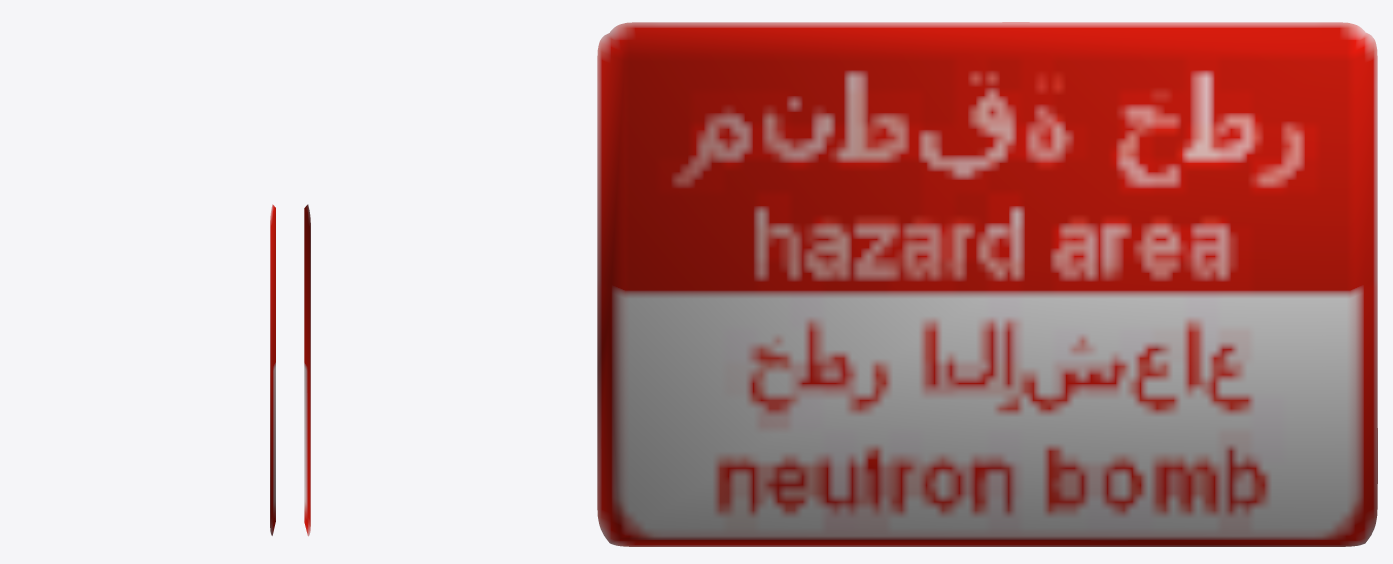
Rendered from M11B_Sign03.glb.
3 renders of one model, left to right at view 1: azimuth 30°, elevation 25°; view 2: azimuth 150°, elevation 25°; view 3: azimuth 270°, elevation 25°, orthographic. The views are drawn at different scales.
Parts seen in each view (by area): view 1: M11B_SIGN03; view 2: M11B_SIGN03; view 3: M11B_SIGN03.
Part boxes in pixels (x1,y1,x2,y2): M11B_SIGN03: (270,204,275,535); M11B_SIGN03: (304,204,310,536); M11B_SIGN03: (597,22,1377,546).
Bounding box in the file's own units: 0.019 × 0.39 × 0.517.
Materials: 1 (1 with a texture image).
